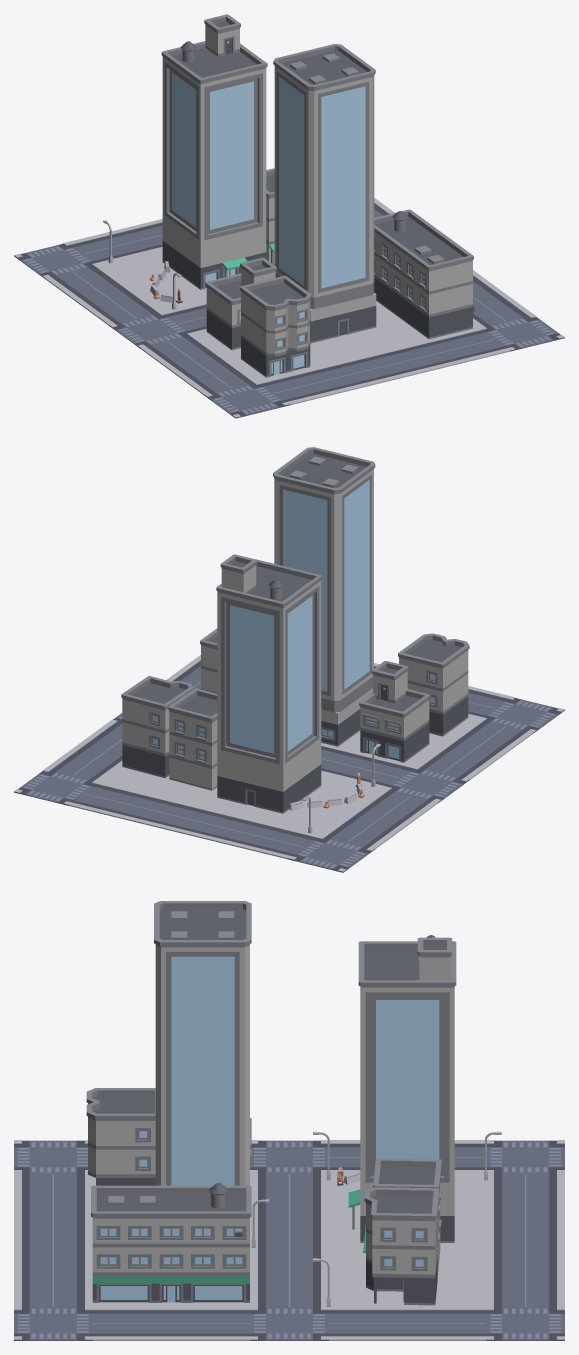
Rendered from city_block1.fbx.
3 views of the same model, one above another, from view 1: azimuth 30°, elevation 25°; view 2: azimuth 150°, elevation 25°; view 3: azimuth 270°, elevation 25° (orthographic). The views are drawn at different scales.
Parts seen in each view (by area): view 1: skyscraperB, skyscraperC, large_buildingF, small_buildingA, small_buildingF, road_straight__19_, road_straight__17_, road_straight__18_, road_straight__16_, road_crossroadPath__5_, road_straight__6_, road_straight__7_ (+14 smaller); view 2: skyscraperC, skyscraperB, small_buildingF, small_buildingA, small_buildingC, small_buildingD, road_straight__9_, road_straight__10_, road_straight__11_, road_crossroadPath__2_, road_straight__8_, road_straight__4_ (+17 smaller); view 3: skyscraperB, skyscraperC, large_buildingF, small_buildingC, small_buildingA, road_straight__13_, road_straight__15_, road_straight__14_, road_straight__12_, road_crossroadPath__3_, road_crossroadPath__4_, road_crossroadPath__1_ (+26 smaller).
Boxes of the visible parts, x1,y1,x2,y2 form: skyscraperB: (273,44,376,343); skyscraperC: (161,14,267,289); large_buildingF: (374,209,474,339); small_buildingA: (240,275,311,377); small_buildingF: (205,257,276,350); road_straight__19_: (259,367,345,404); road_straight__17_: (369,341,455,378); road_straight__18_: (314,354,400,391); road_straight__16_: (424,327,509,364); road_crossroadPath__5_: (204,381,290,418); road_straight__6_: (77,288,163,325); road_straight__7_: (45,265,131,302); skyscraperC: (216,554,322,813); skyscraperB: (273,447,375,746); small_buildingF: (359,661,430,762); small_buildingA: (398,633,469,736); small_buildingC: (121,676,193,778); small_buildingD: (168,688,217,790); road_straight__9_: (178,808,264,845); road_straight__10_: (123,795,209,832); road_straight__11_: (69,781,154,819); road_crossroadPath__2_: (288,835,374,872); road_straight__8_: (233,822,319,859); road_straight__4_: (415,742,501,779); skyscraperB: (154,901,251,1185); skyscraperC: (348,935,456,1242); large_buildingF: (91,1183,251,1302); small_buildingC: (364,1187,439,1305); small_buildingA: (86,1088,155,1185); road_straight__13_: (407,1306,486,1340); road_straight__15_: (92,1306,171,1340); road_straight__14_: (171,1306,249,1340); road_straight__12_: (329,1306,407,1340); road_crossroadPath__3_: (486,1306,564,1340); road_crossroadPath__4_: (14,1306,92,1340); road_crossroadPath__1_: (250,1306,328,1340).
Size of the model in its own units: 600 by 448 by 700.
